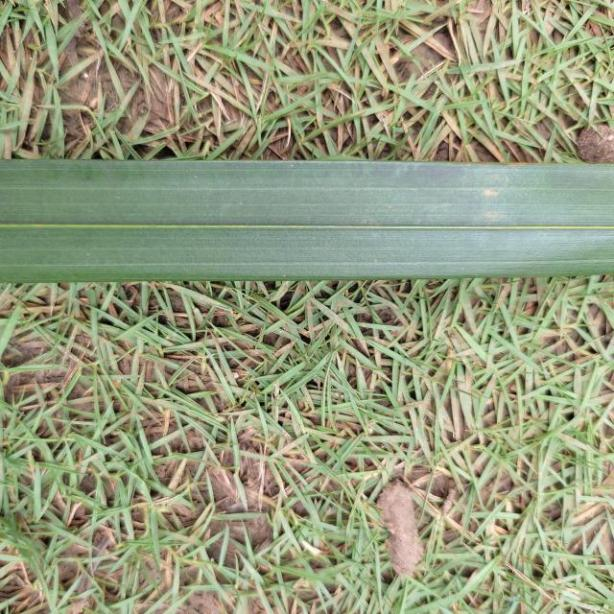Kalium: (1, 152, 614, 283)
